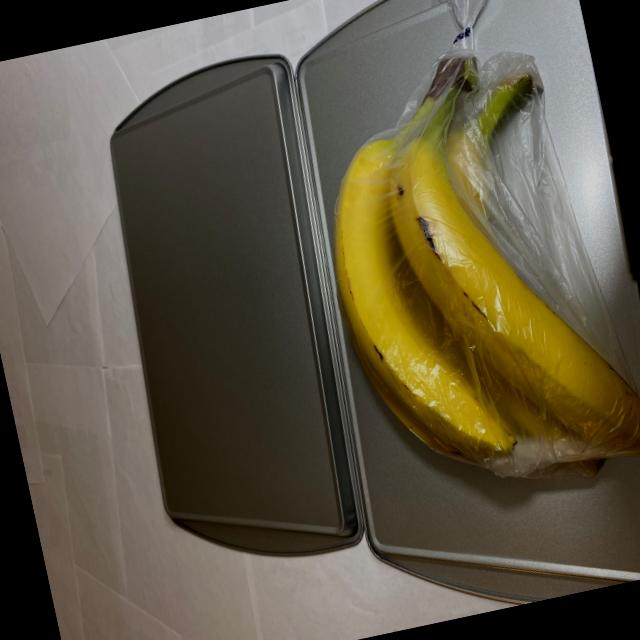banana: (288, 9, 640, 533)
